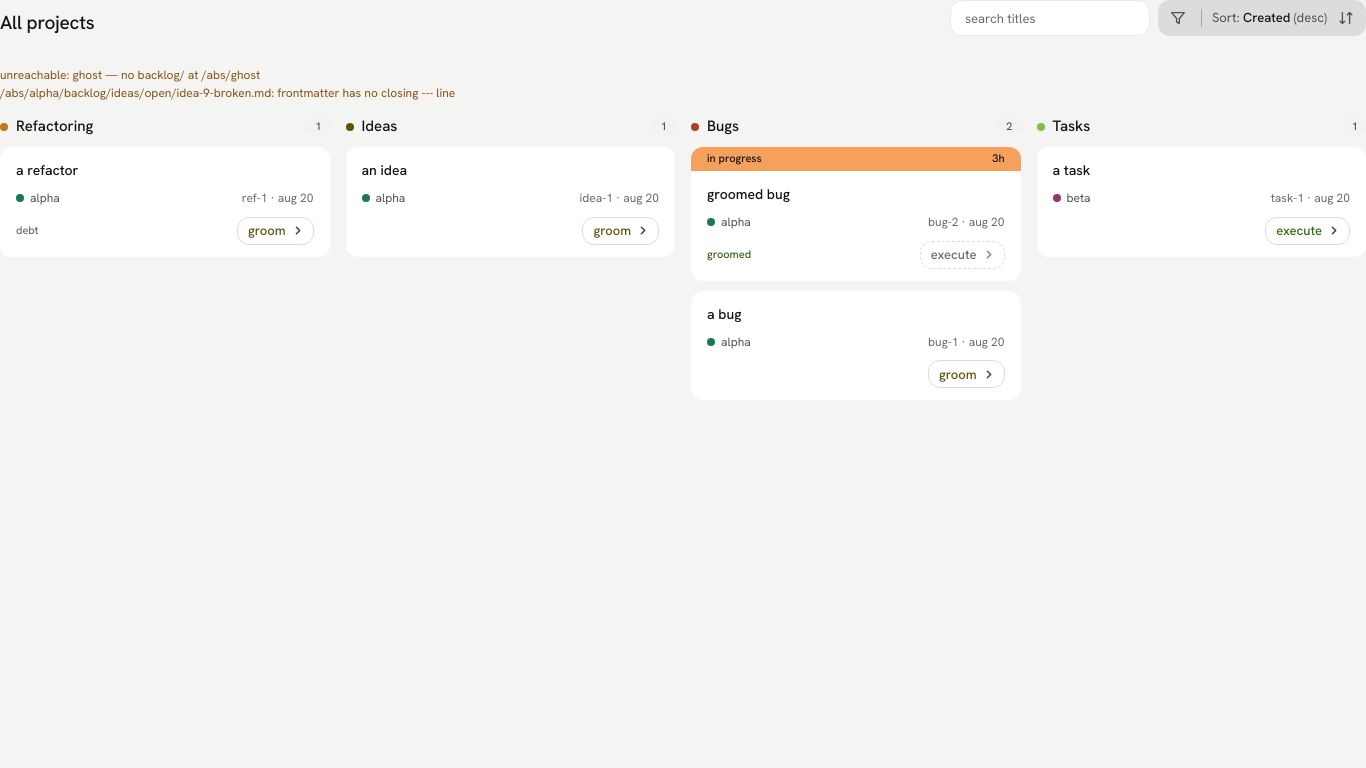
Scenario: BoardView › the Status switch offers Open, In progress, Done and All, in that order
Expected: the text "Bugs" is shown, [707,116,739,137]
Click the button named "Filters" at (1178, 18), box [1161,3,1195,33]
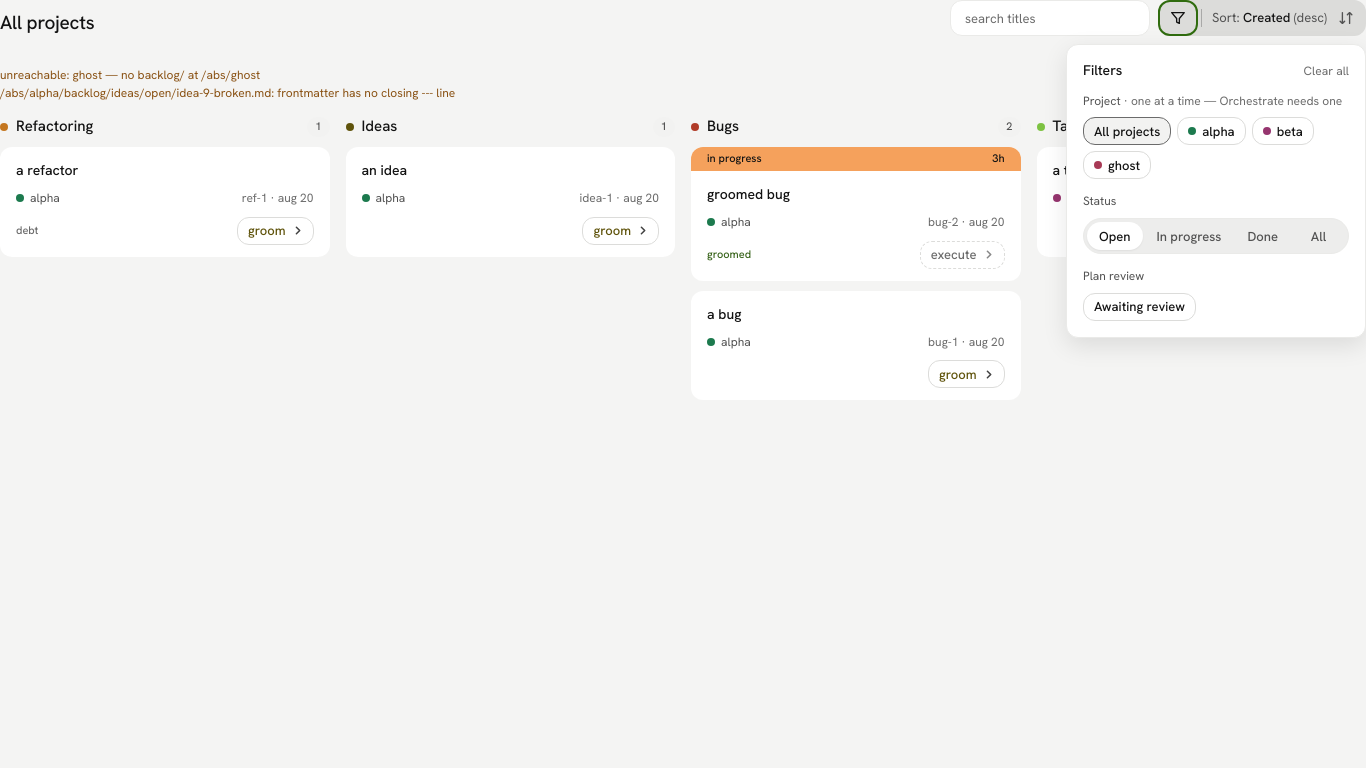
Expected: the buttons read "Open", "In progress", "Done", "All", in this order, [1087,222,1142,250]; [1144,222,1233,250]; [1236,222,1290,250]; [1292,222,1345,250]
